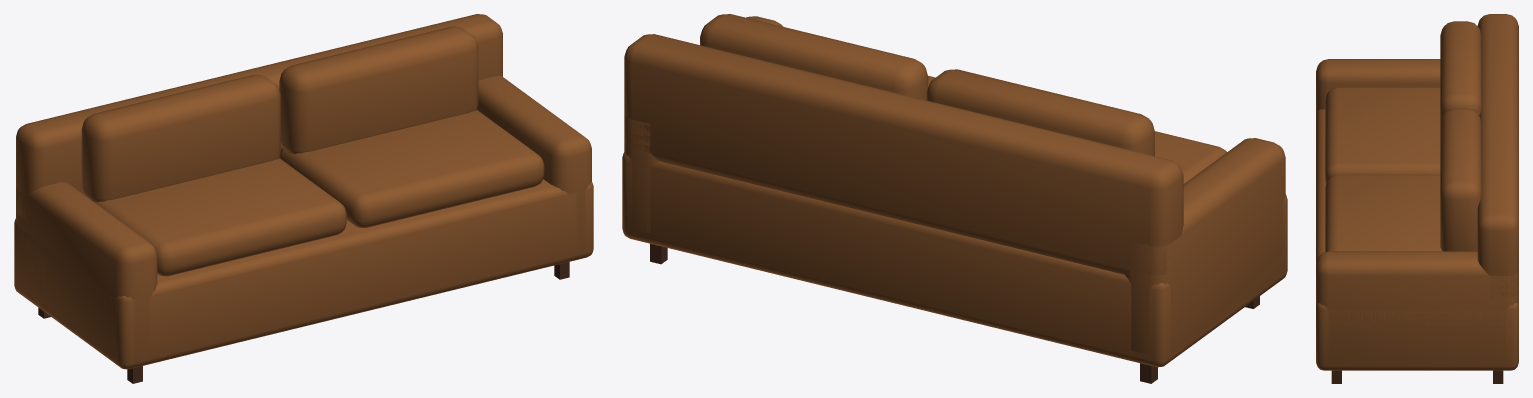
File: fur_sofa_leather.glb
The picture shows the model from 3 angles, left to right: view 1: azimuth 30°, elevation 25°; view 2: azimuth 150°, elevation 25°; view 3: azimuth 270°, elevation 25°; orthographic projection. The views are drawn at different scales.
Visible parts, largest first — view 1: FUR_sofa_leather; view 2: FUR_sofa_leather; view 3: FUR_sofa_leather.
Part boxes in pixels (bbox=[...]): FUR_sofa_leather: bbox=[14, 14, 593, 383]; FUR_sofa_leather: bbox=[622, 14, 1287, 383]; FUR_sofa_leather: bbox=[1316, 14, 1518, 383].
Size of the model in its own units: 2.4 by 0.99 by 0.98.
1 material, 1 textured.
